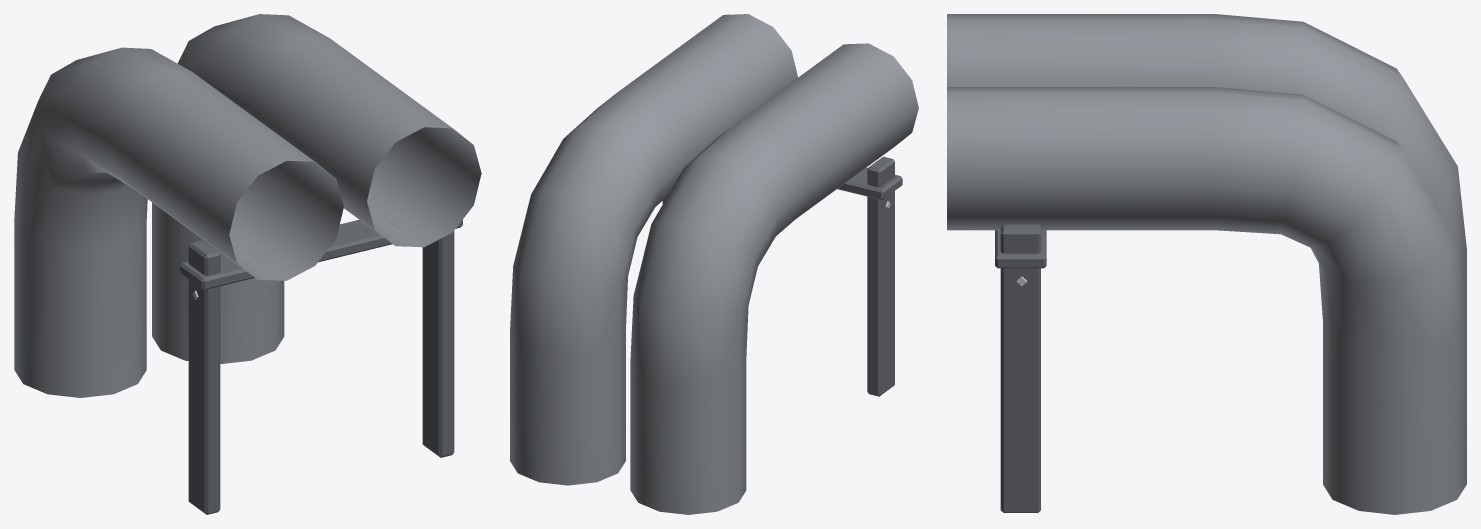
The model's file is SM_Pipe_4.fbx.
The picture shows the model from 3 angles, left to right: view 1: azimuth 30°, elevation 25°; view 2: azimuth 150°, elevation 25°; view 3: azimuth 270°, elevation 25°; orthographic projection. The views are drawn at different scales.
Parts seen in each view (by area): view 1: SM_Pipe_4_LOD0; view 2: SM_Pipe_4_LOD0; view 3: SM_Pipe_4_LOD0.
Boxes of the visible parts, bbox=[...] form: SM_Pipe_4_LOD0: bbox=[14, 14, 481, 514]; SM_Pipe_4_LOD0: bbox=[510, 14, 918, 514]; SM_Pipe_4_LOD0: bbox=[947, 14, 1466, 514].
Bounding box in the file's own units: 183 × 289 × 240.
1 material, 1 textured.
